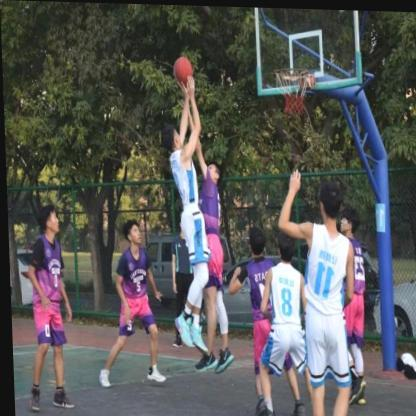basketball: (173, 56, 192, 85)
